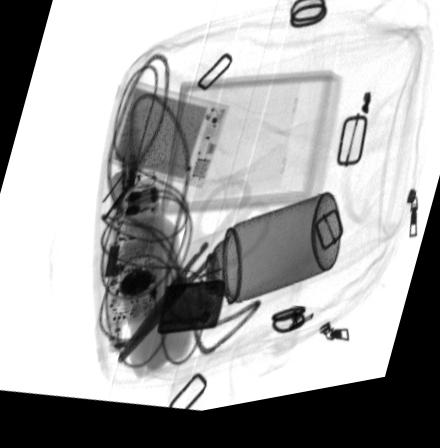Lighter: (158, 285, 224, 339)
Powerbank: (105, 84, 232, 197)
Scissors: (117, 188, 272, 366)
Sprayer: (205, 203, 340, 312)
